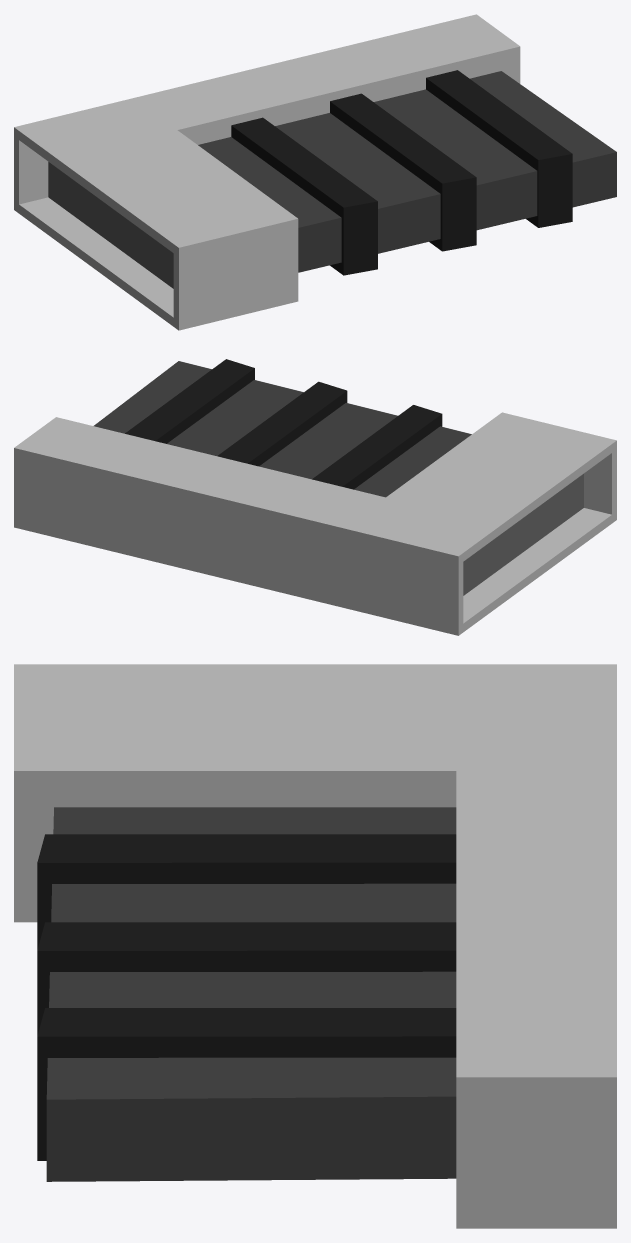
File: tech_small_B.FBX
3 renders of one model, top to bottom at view 1: azimuth 30°, elevation 25°; view 2: azimuth 150°, elevation 25°; view 3: azimuth 270°, elevation 25°, orthographic. The views are drawn at different scales.
Visible parts, largest first — view 1: tech_small_B; view 2: tech_small_B; view 3: tech_small_B.
Boxes of the visible parts, bbox=[...] form: tech_small_B: bbox=[14, 14, 616, 330]; tech_small_B: bbox=[14, 359, 616, 635]; tech_small_B: bbox=[14, 664, 616, 1228].
Size of the model in its own units: 20.81 by 3.56 by 12.85.
